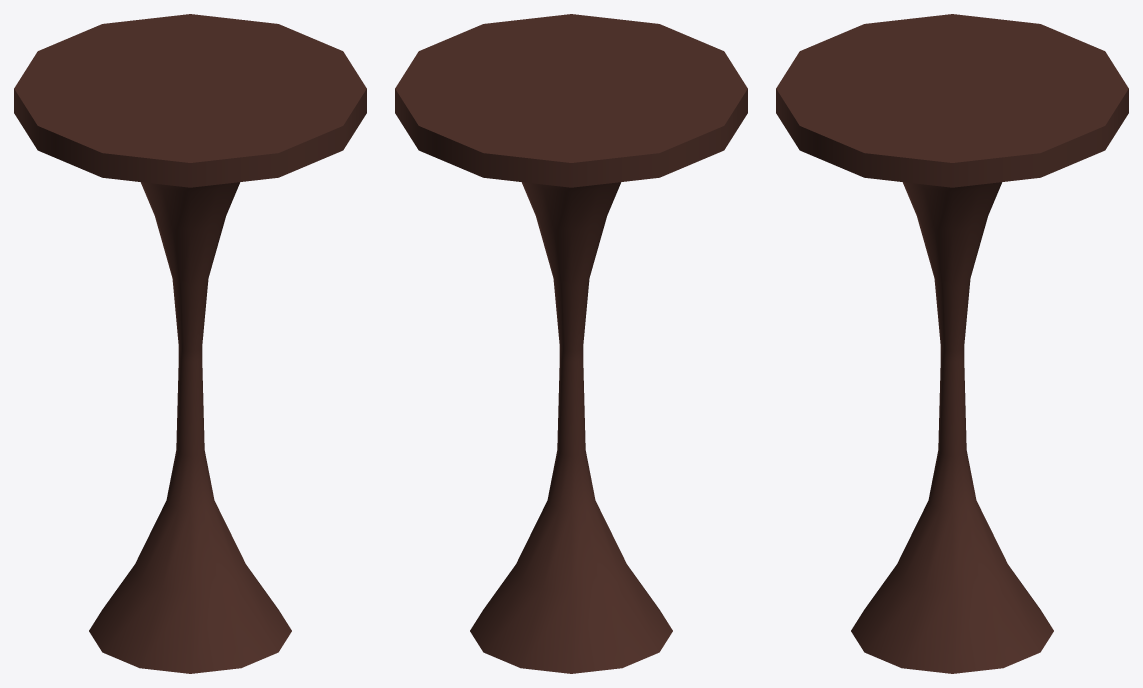
The model's file is mesinha.fbx.
3 views of the same model, side by side, from view 1: azimuth 30°, elevation 25°; view 2: azimuth 150°, elevation 25°; view 3: azimuth 270°, elevation 25° (orthographic).
Visible parts, largest first — view 1: pCylinder1; view 2: pCylinder1; view 3: pCylinder1.
Boxes of the visible parts, box(x1,y1,x2,y2) form: pCylinder1: box(14, 14, 366, 673); pCylinder1: box(395, 14, 747, 673); pCylinder1: box(776, 14, 1128, 673).
Bounding box in the file's own units: 4.34 × 7.35 × 4.34.
